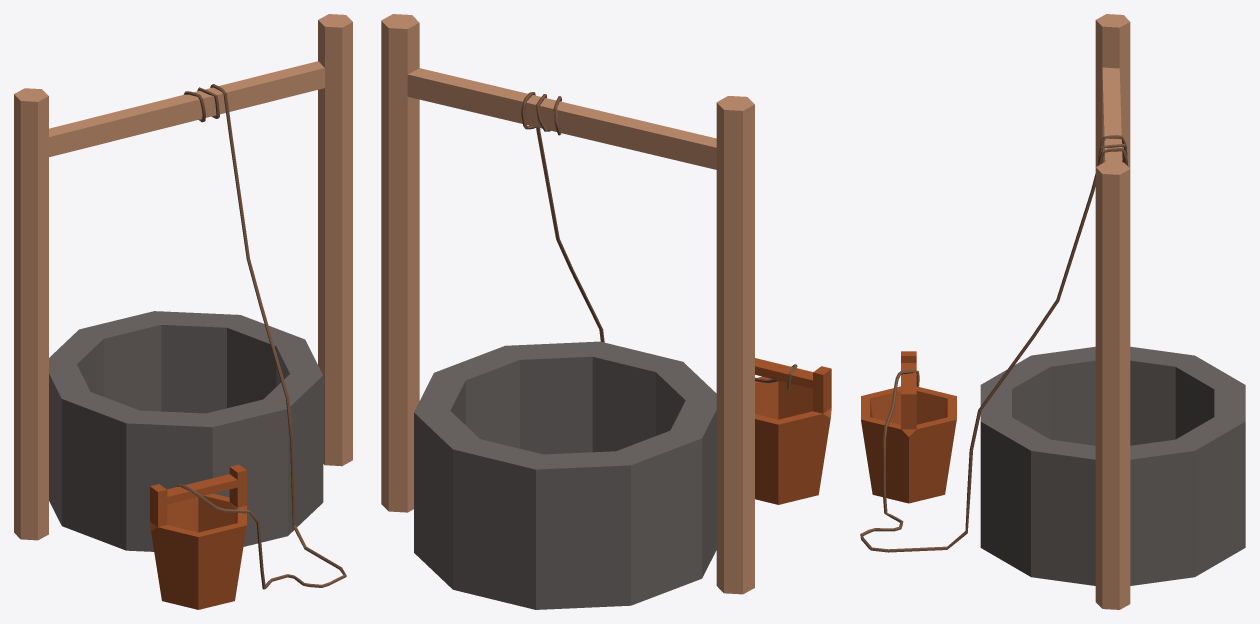
Rendered from ido.fbx.
The picture shows the model from 3 angles, left to right: view 1: azimuth 30°, elevation 25°; view 2: azimuth 150°, elevation 25°; view 3: azimuth 270°, elevation 25°; orthographic projection. The views are drawn at different scales.
Visible parts, largest first — view 1: curve3; view 2: curve3; view 3: curve3.
Part boxes in pixels (x1,y1,x2,y2): curve3: (14,14,352,609); curve3: (381,14,831,609); curve3: (860,14,1245,609).
Size of the model in its own units: 10.92 by 13.87 by 11.06.
